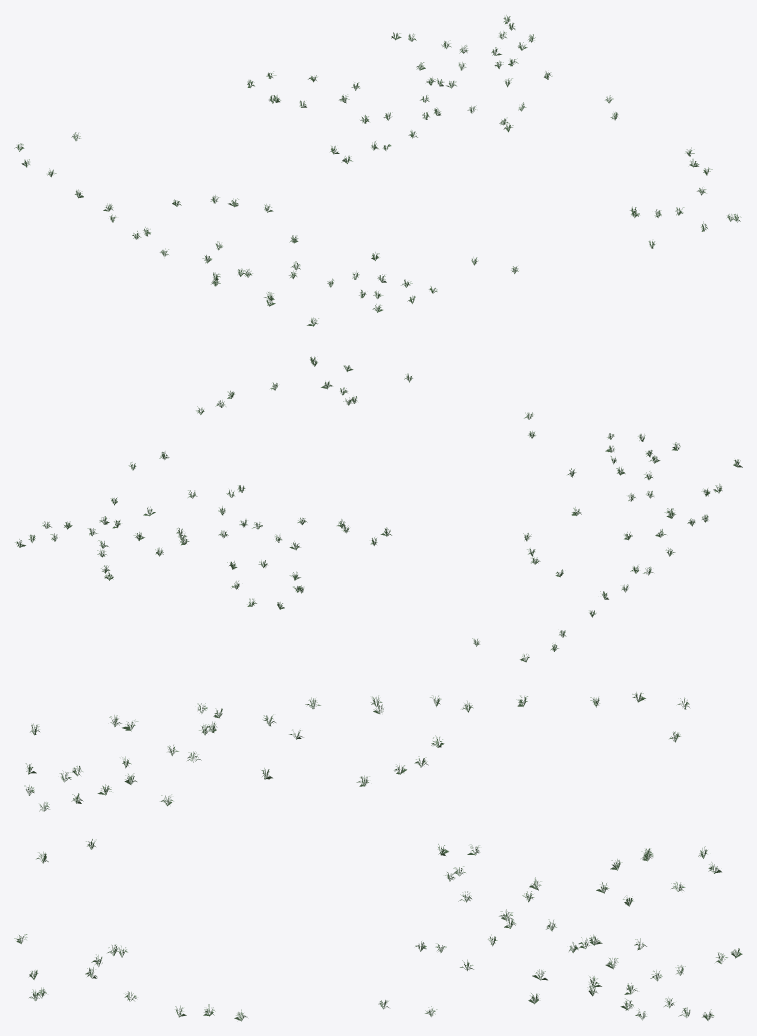
File: xiyuan-vegetation-38-medium.glb
3 renders of one model, top to bottom at view 1: azimuth 30°, elevation 25°; view 2: azimuth 150°, elevation 25°; view 3: azimuth 270°, elevation 25°, orthographic. The views are drawn at different scales.
Parts seen in each view (by area): view 1: mondo grass.003; view 2: mondo grass.003; view 3: mondo grass.003.
Boxes of the visible parts, bbox=[...] form: mondo grass.003: bbox=[14, 15, 741, 326]; mondo grass.003: bbox=[15, 356, 742, 662]; mondo grass.003: bbox=[14, 692, 742, 1021].
Size of the model in its own units: 31.36 by 0.4834 by 29.72.
